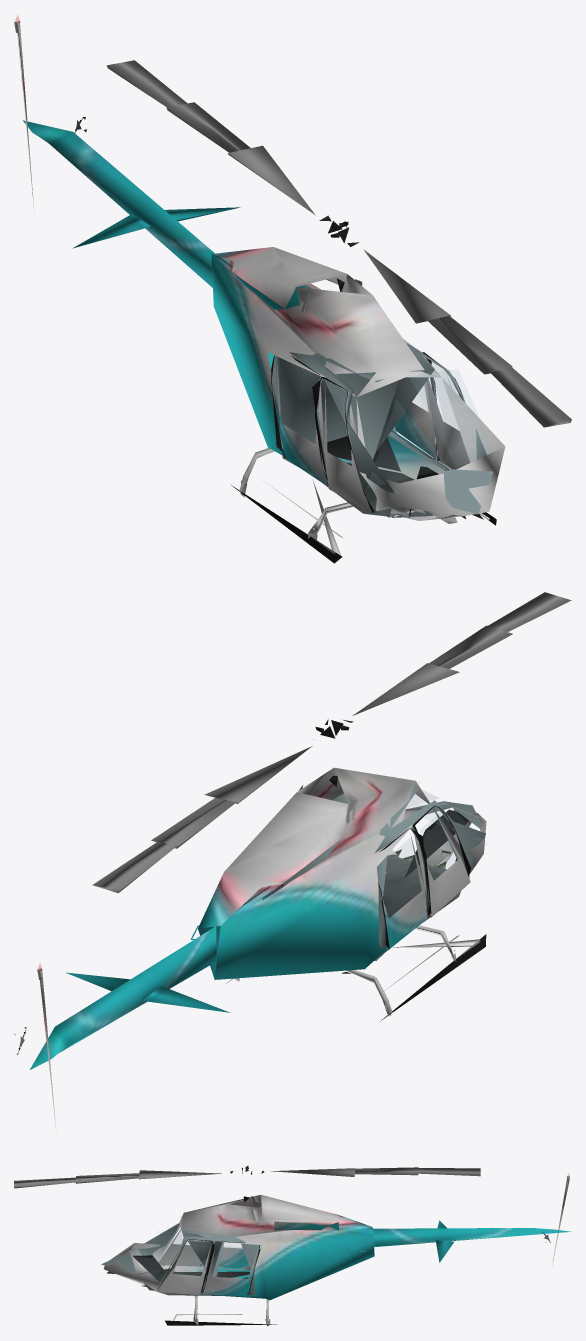
The model's file is heli_tour_lod1.glb.
The picture shows the model from 3 angles, top to bottom: view 1: azimuth 30°, elevation 25°; view 2: azimuth 150°, elevation 25°; view 3: azimuth 270°, elevation 25°; orthographic projection. The views are drawn at different scales.
Parts seen in each view (by area): view 1: LOD1; view 2: LOD1; view 3: LOD1.
Boxes of the visible parts, x1=… form: LOD1: x1=14, y1=15, x2=571, y2=563; LOD1: x1=14, y1=592, x2=571, y2=1133; LOD1: x1=14, y1=1165, x2=571, y2=1326.
Bounding box in the file's own units: 2.02 × 3.09 × 11.11.
8 materials, 8 textured.
